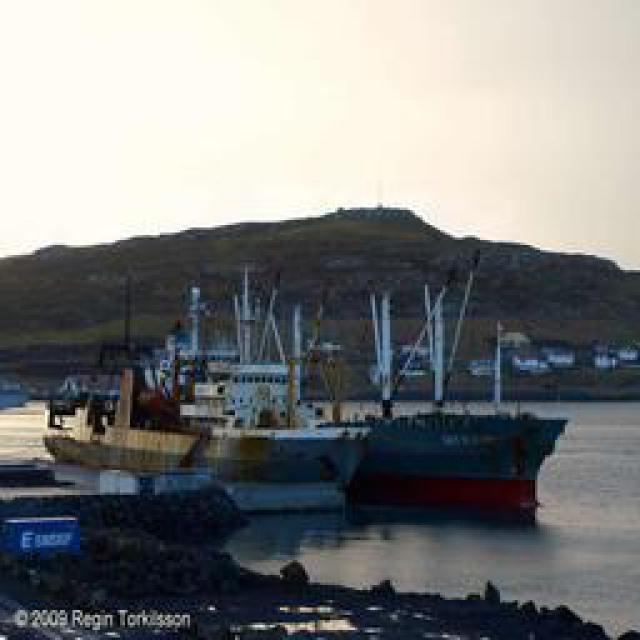Ship: (48, 274, 372, 508), (341, 320, 570, 526)
